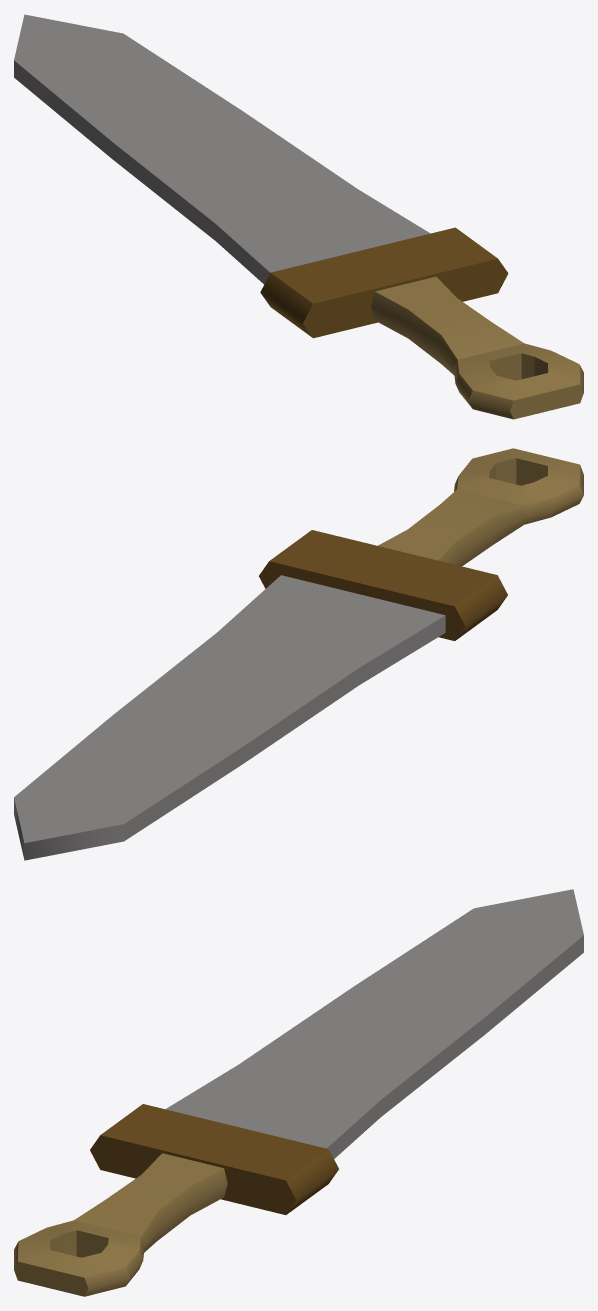
File: mesh_short_sword.fbx
3 renders of one model, top to bottom at view 1: azimuth 30°, elevation 25°; view 2: azimuth 150°, elevation 25°; view 3: azimuth 330°, elevation 25°, orthographic.
Visible parts, largest first — view 1: short_sword; view 2: short_sword; view 3: short_sword.
Part boxes in pixels (<box>): short_sword: <box>14,14,583,419</box>; short_sword: <box>14,448,583,860</box>; short_sword: <box>14,889,583,1296</box>.
Size of the model in its own units: 24.7 by 3.97 by 108.
1 material, 1 textured.
